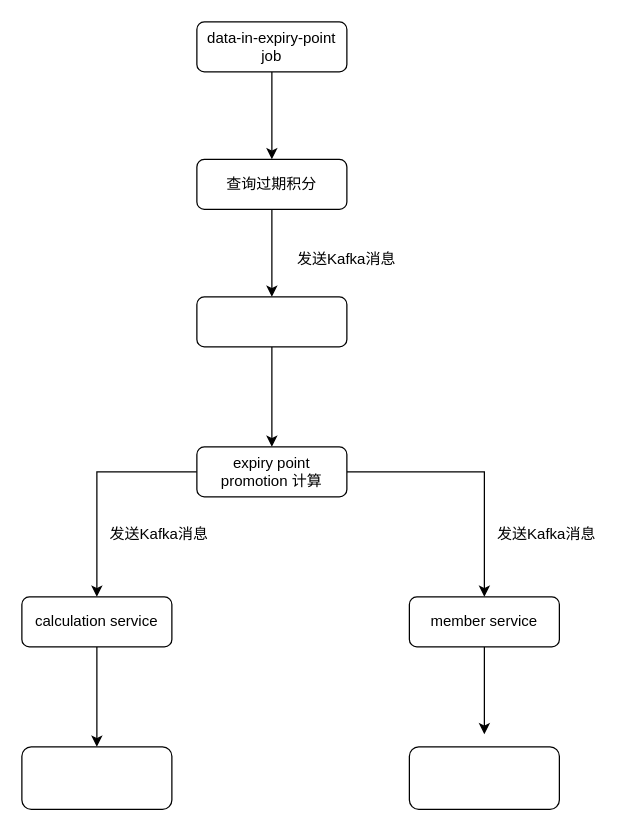
The diagram is 631 pixels wide and 831 high, and some of its shapes have lost their labels. Here are the shapes that lost their labels. From the top down, the centre of each, then its label:
the point at 271,321: non-pos service
the point at 96,777: 生成 rdm itm 等数据
the point at 483,777: 更新积分
